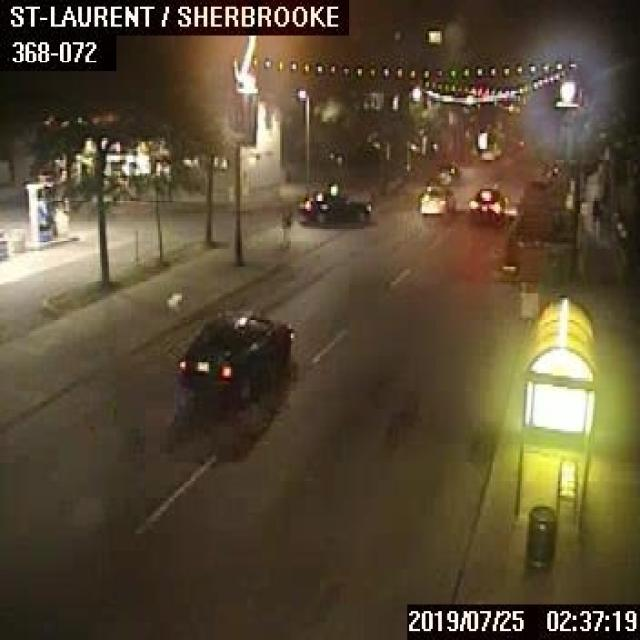pedestrian: (278, 206, 291, 246)
vehicle: (176, 307, 293, 397), (294, 182, 372, 222), (467, 184, 504, 218), (418, 185, 455, 216), (433, 161, 459, 183), (478, 146, 499, 158)
